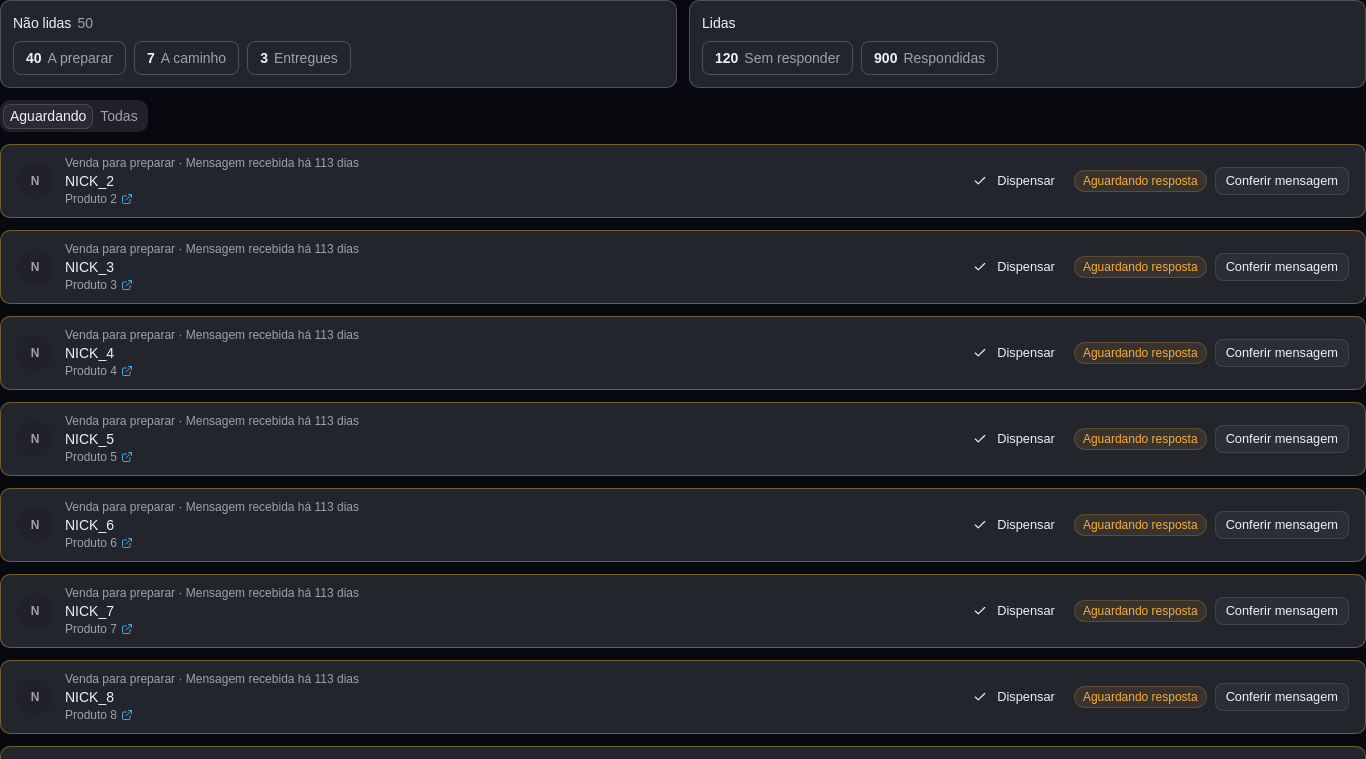
Scenario: AbaMensagens › mostra o total no rodapé de paginação
Click the tab "Todas" at (119, 116), box x1=93 y1=104 x2=145 y2=128
(page scrolled)
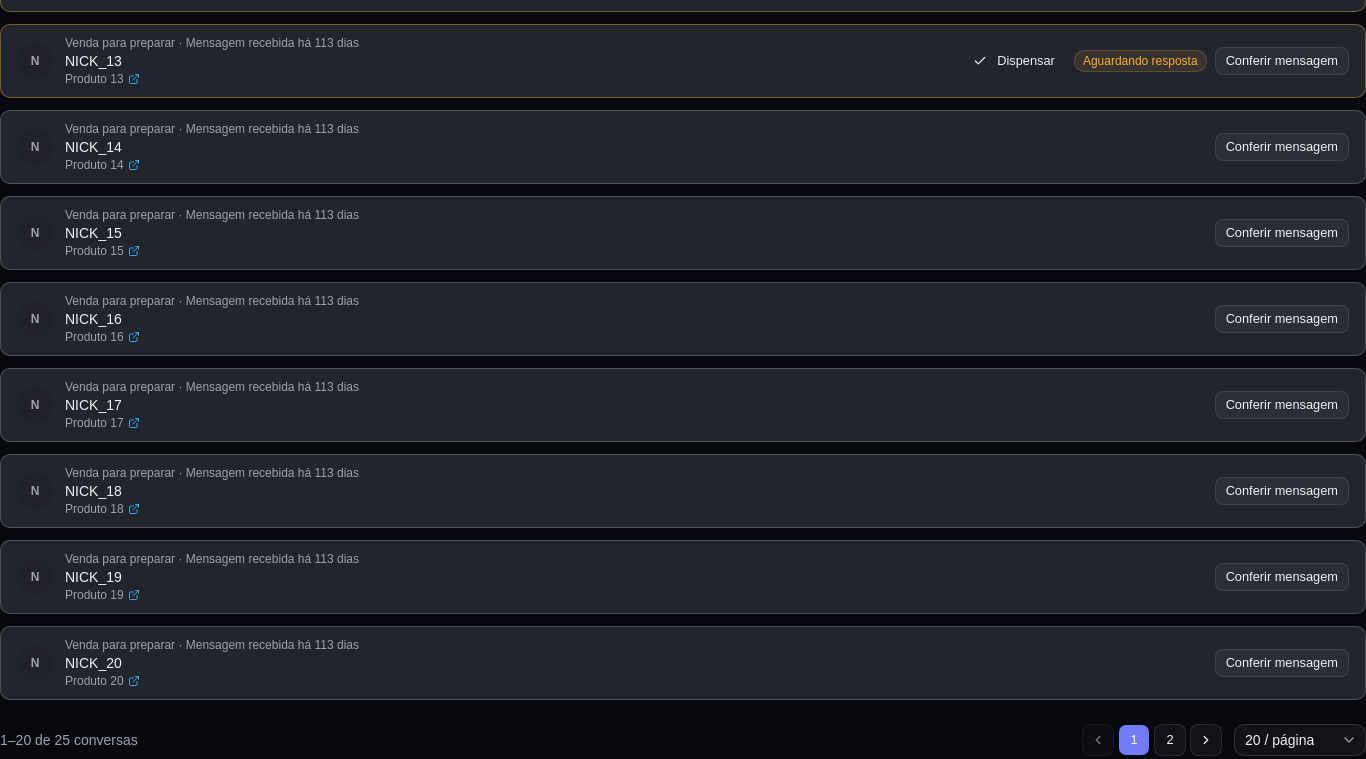
Now the text "1–20 de 25 conversas" is shown, box x1=0 y1=730 x2=138 y2=750
